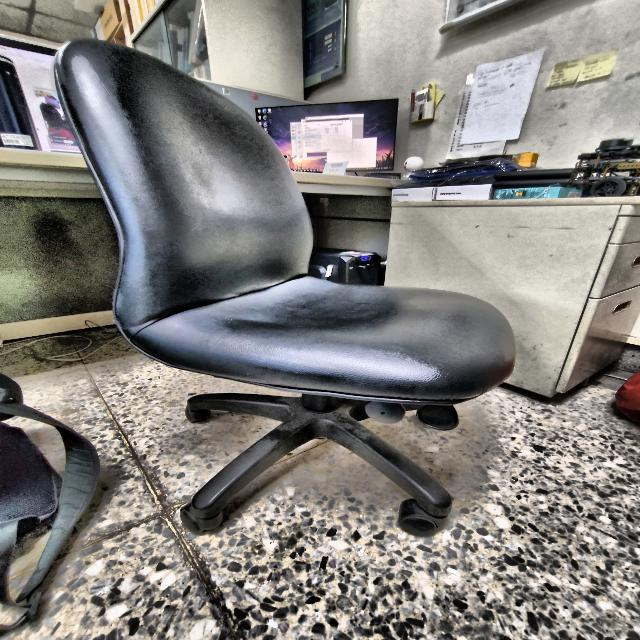cadeira: (38, 29, 530, 546)
